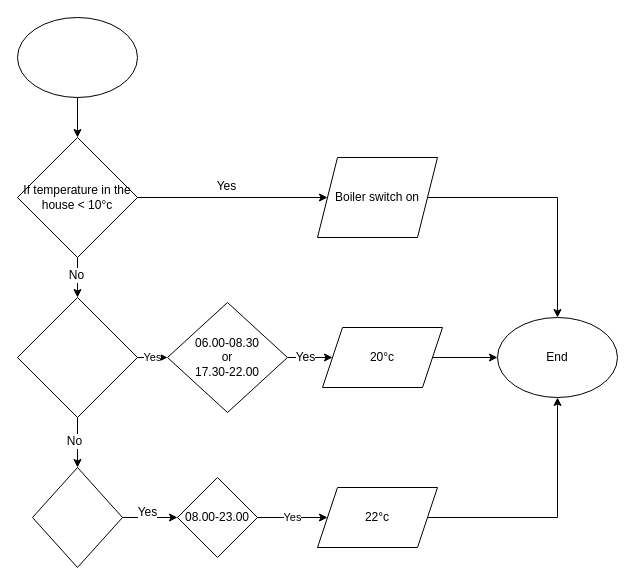
Image size: 635x585. Some labels were removed from this diagram. Each missing label, with the centre of its shape:
"At weekends" goes at [77,517].
"during the week" goes at [77,357].
"Start" goes at [77,57].
